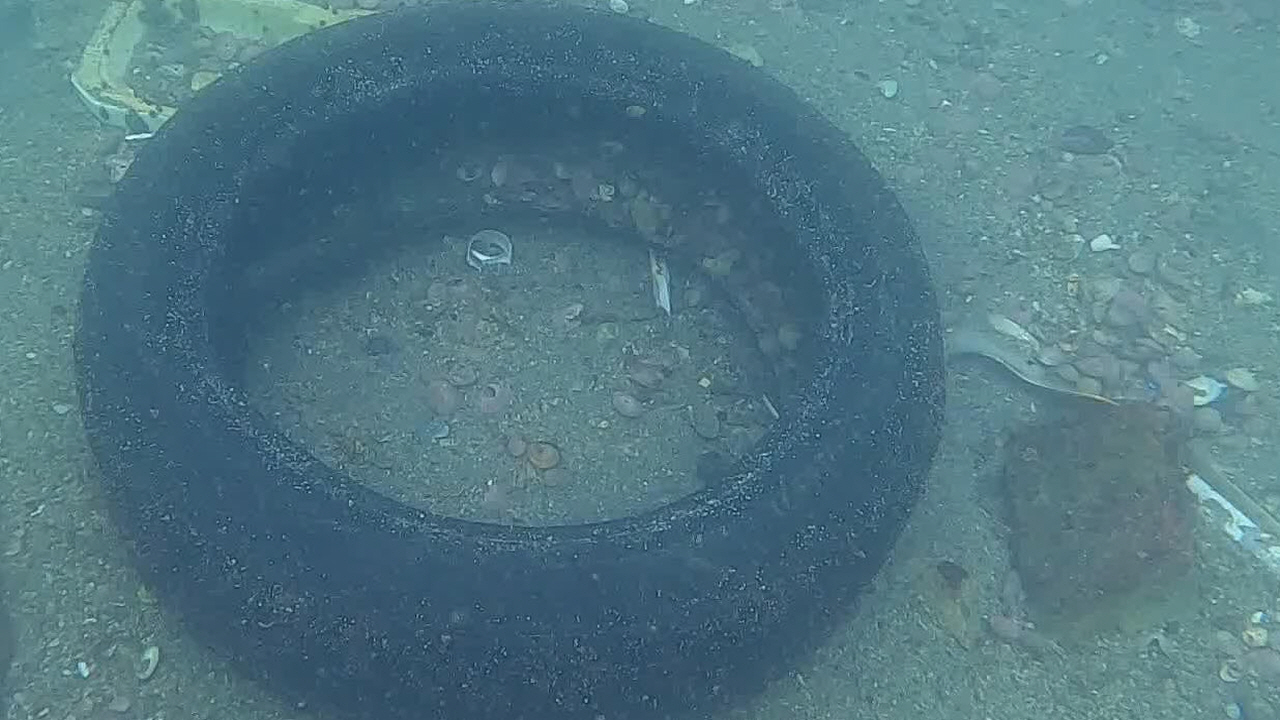tire: (68, 0, 946, 720)
